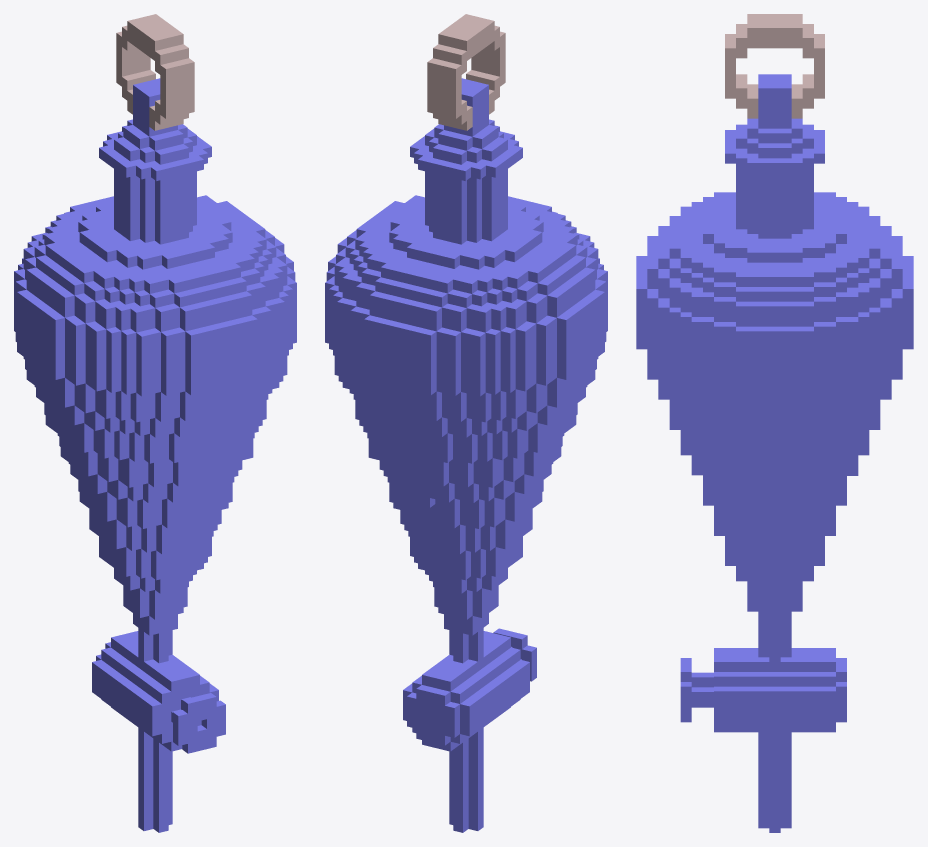
Rendered from Flask8-1-1.fbx.
The picture shows the model from 3 angles, left to right: view 1: azimuth 30°, elevation 25°; view 2: azimuth 150°, elevation 25°; view 3: azimuth 270°, elevation 25°; orthographic projection.
Parts seen in each view (by area): view 1: Flask8-1-1.001, Flask8-1-1.002, Flask8-1-1.003, Flask8-1-1.004; view 2: Flask8-1-1.001, Flask8-1-1.002, Flask8-1-1.003, Flask8-1-1.004; view 3: Flask8-1-1.001, Flask8-1-1.002, Flask8-1-1.003, Flask8-1-1.004.
Part boxes in pixels (x1=…): Flask8-1-1.001: x1=14, y1=14, x2=296, y2=366; Flask8-1-1.002: x1=14, y1=301, x2=296, y2=663; Flask8-1-1.003: x1=97, y1=636, x2=225, y2=832; Flask8-1-1.004: x1=92, y1=631, x2=138, y2=710; Flask8-1-1.001: x1=325, y1=14, x2=607, y2=366; Flask8-1-1.002: x1=325, y1=301, x2=607, y2=663; Flask8-1-1.003: x1=409, y1=628, x2=536, y2=832; Flask8-1-1.004: x1=403, y1=671, x2=474, y2=751; Flask8-1-1.001: x1=636, y1=14, x2=913, y2=361; Flask8-1-1.002: x1=636, y1=319, x2=913, y2=661; Flask8-1-1.003: x1=680, y1=648, x2=824, y2=832; Flask8-1-1.004: x1=825, y1=648, x2=846, y2=732.
Size of the model in its own units: 2.5 by 8 by 2.5.
